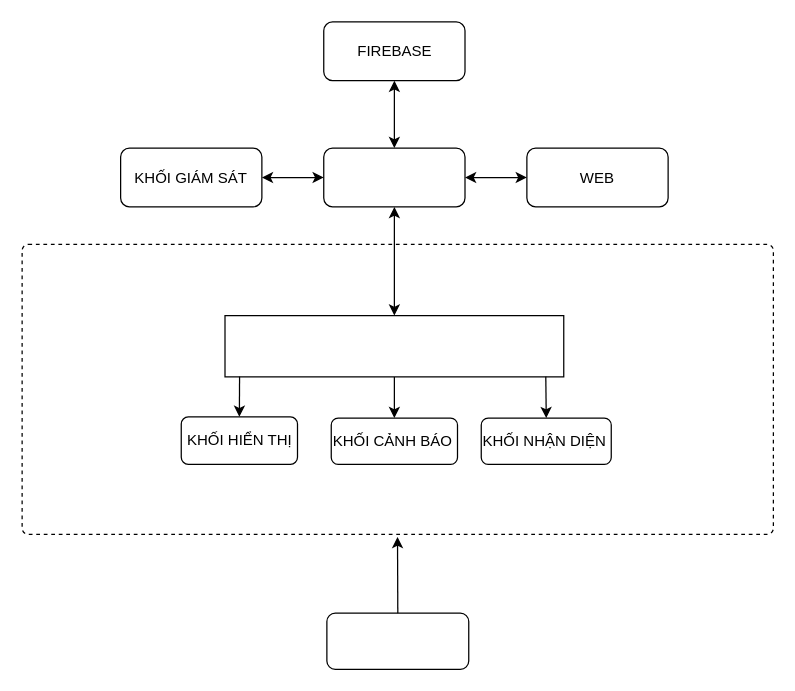
The diagram is 795 pixels wide and 691 high, and some of its shapes have lost their labels. The shapes that lost their labels are listed below. From the top down, each one's box as (x1, y1, x2, y2) in pixels, then its label:
(322, 147, 465, 207): ROUTER WIFI
(224, 314, 564, 377): KHỐI XỬ LÝ TRUNG TÂM
(326, 612, 469, 669): KHỐI NGUỐN
